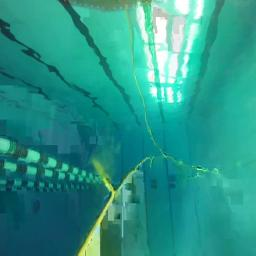Full: (168, 182, 176, 188), (150, 184, 158, 189)
